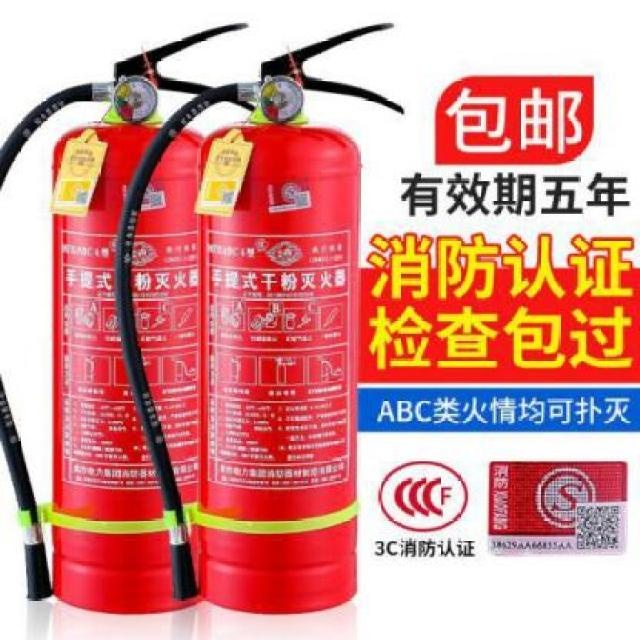fire extinguisher: (112, 21, 405, 616), (0, 22, 257, 615)
